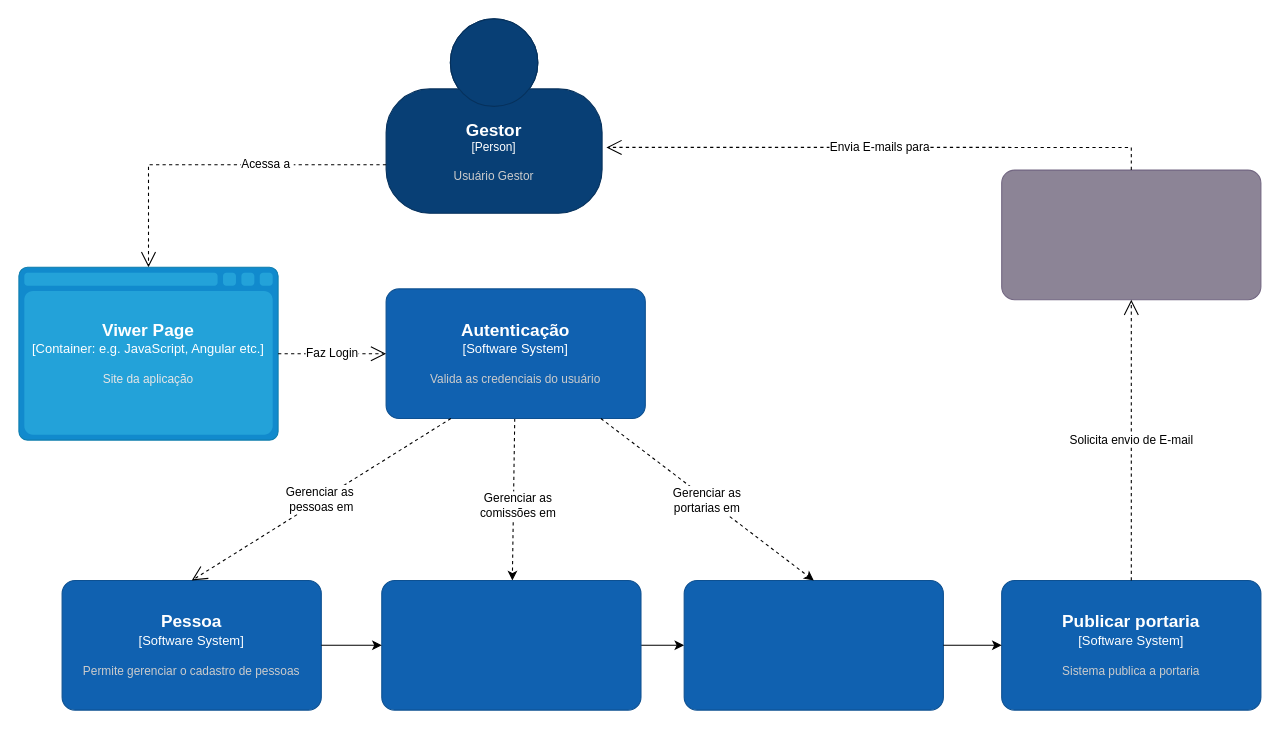
Some shapes in this 1280 by 729 pixel diagram are drawn without their labels. Here are the shapes that lost their labels. From the top down, the centre of each, then its label:
point (1131, 234): Email System [Software System] The microsoft email system
point (511, 644): Comissão [Software System] Permite gerenciar o cadastro de comissão
point (813, 644): Portaria [Software System] Permite gerenciar o cadastro de portaria
